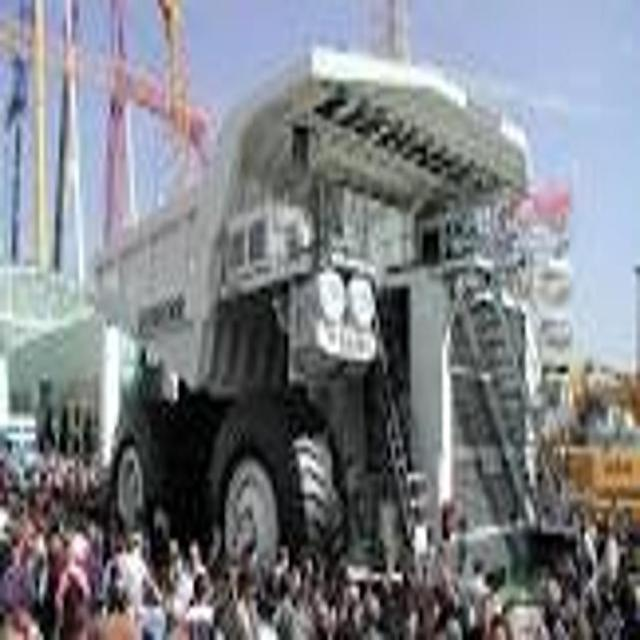dump_truck: (96, 70, 576, 578)
